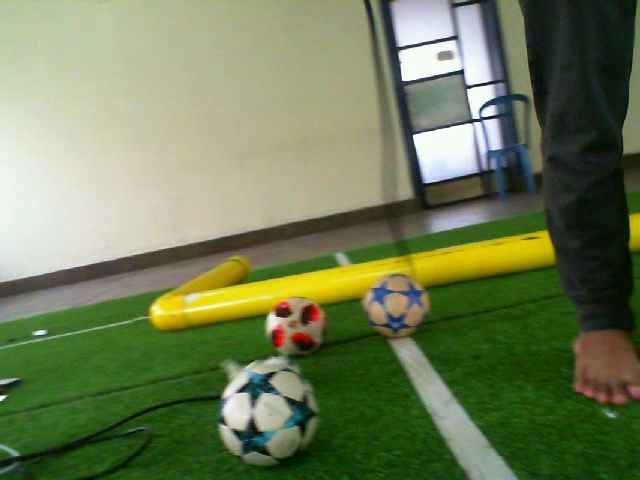ball: (213, 359, 323, 470), (359, 272, 435, 340), (262, 294, 332, 358)
